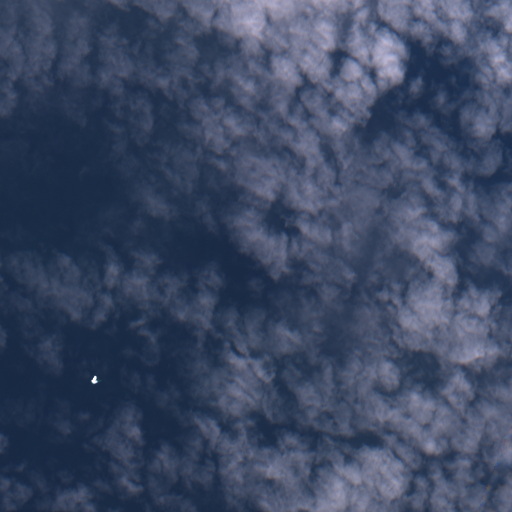Iceberg: (90, 375, 98, 383)
